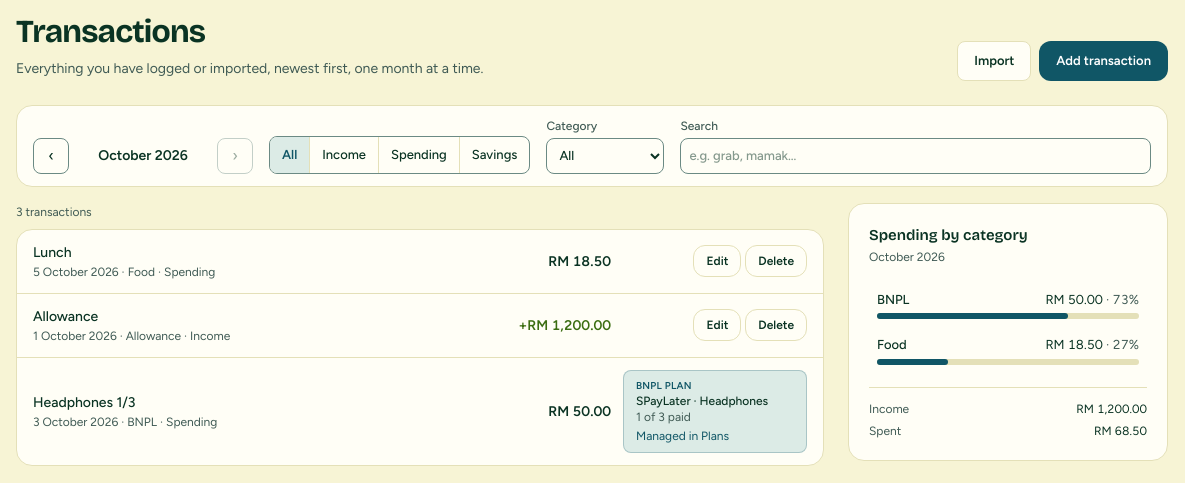
it: TransactionsScreen › says nothing matches, and offers to clear, when a search finds nothing
Check: the text "Lunch" is shown, box [33,244,72,261]
Type "zzz" into the search field labelled "Search". click: (916,156)
box: [680,138,1151,174]
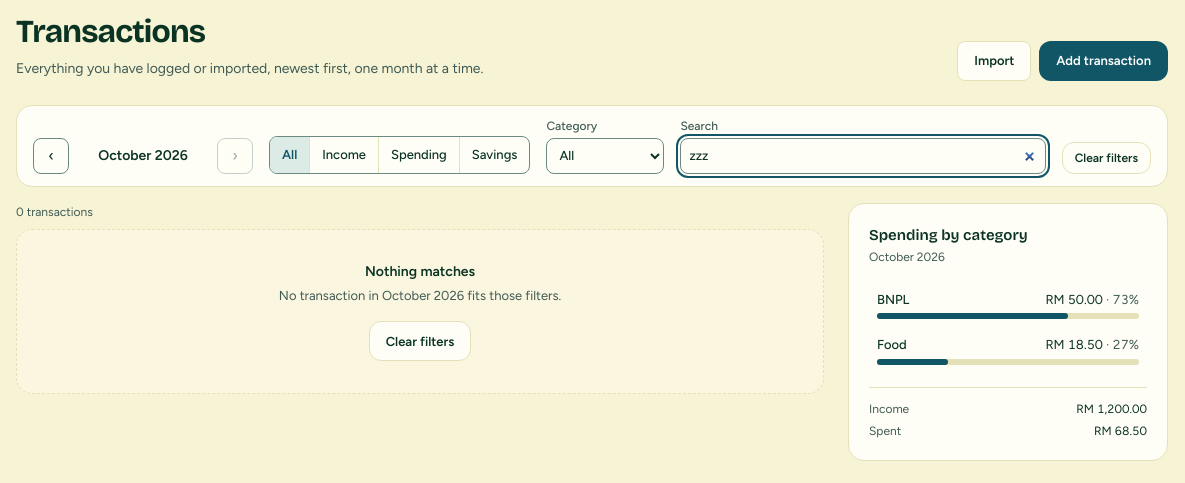
Check: the text "Nothing matches" is shown, box [365,263,475,280]
Click the 1st button "Clear filters". click: (1106,158)
box: [1062,142,1151,174]
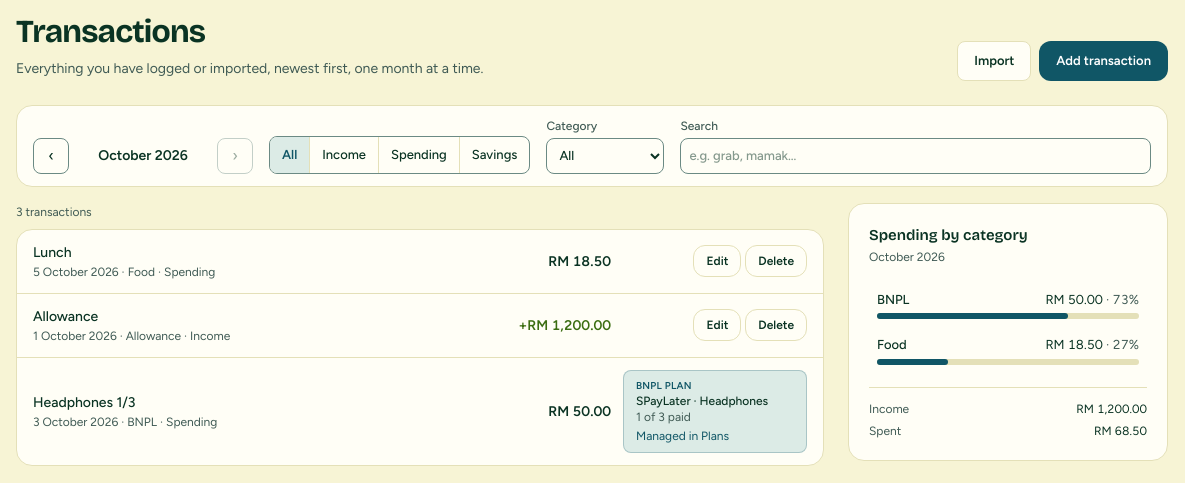
Check: the text "Lunch" is shown, box [33,244,72,261]
